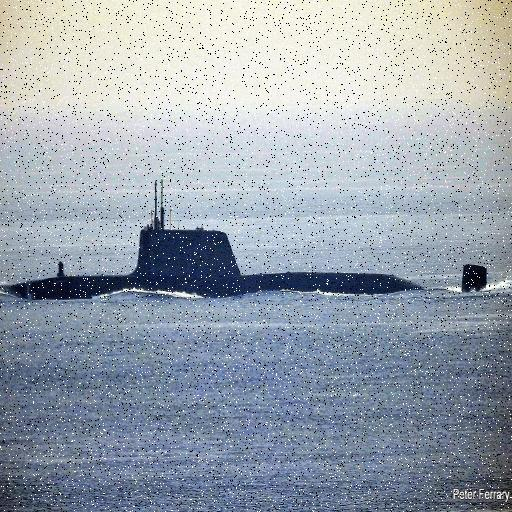submarine: (1, 230, 490, 304)
